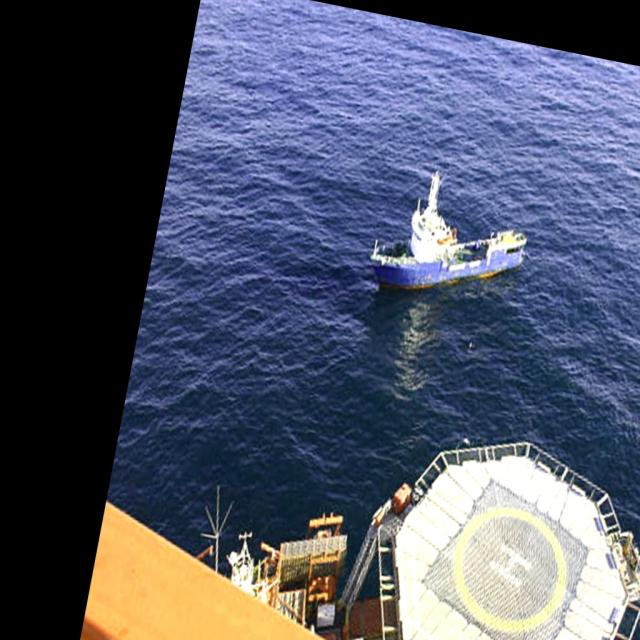helipad: (446, 502, 568, 636)
